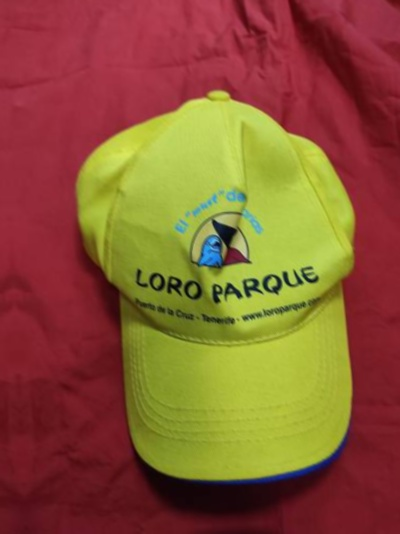Hat: (65, 55, 395, 503)
